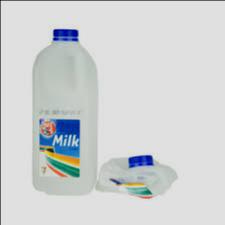Plastic: (28, 26, 99, 199), (97, 151, 179, 200)
